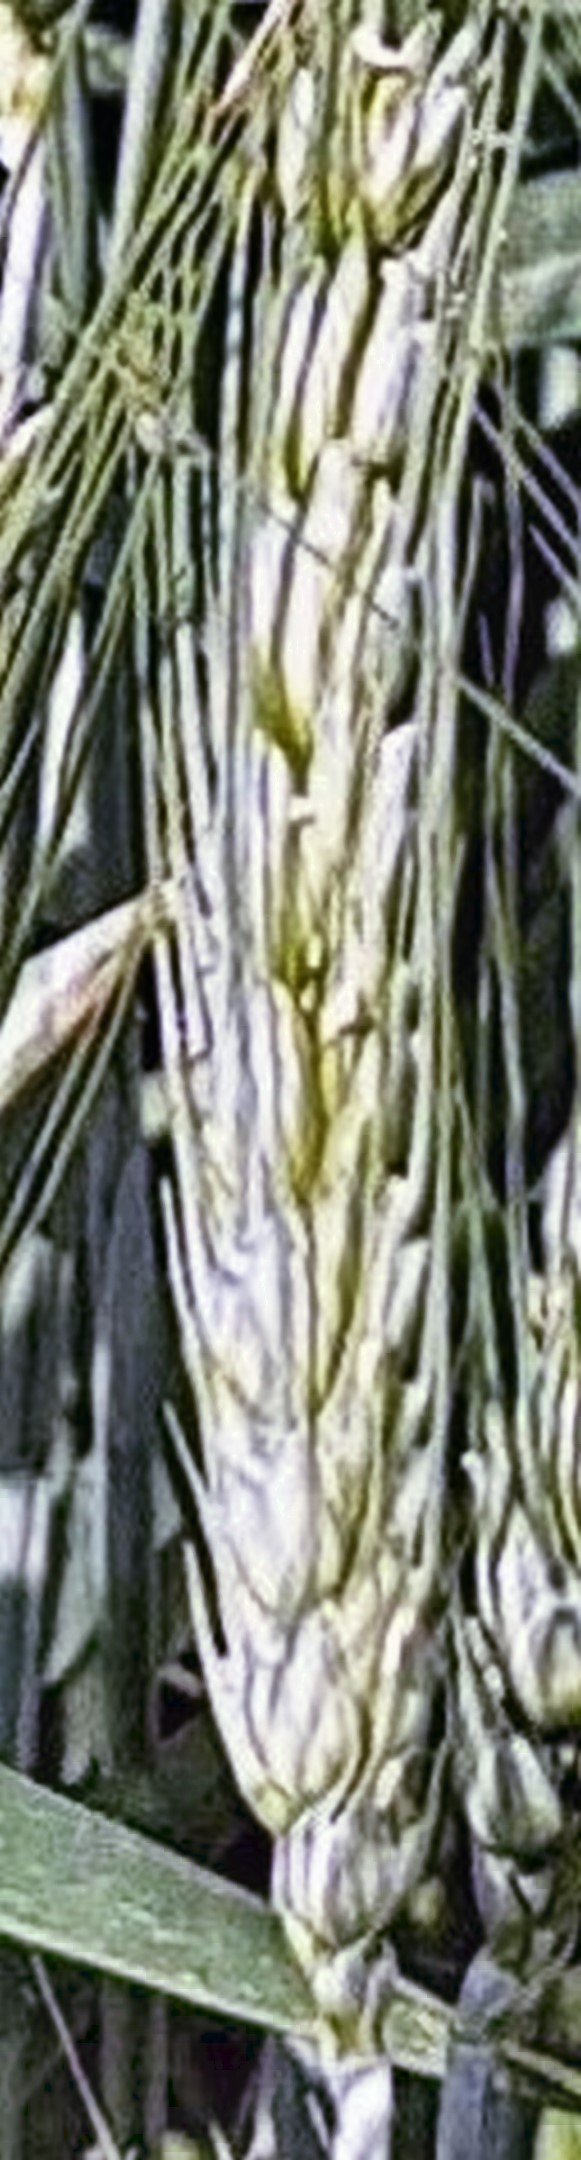Healthy Wheat: (131, 131, 542, 1911)
